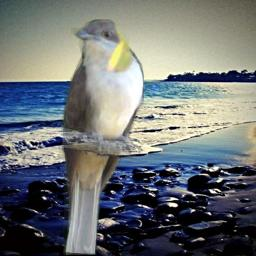Cuckoo: (58, 19, 144, 255)
